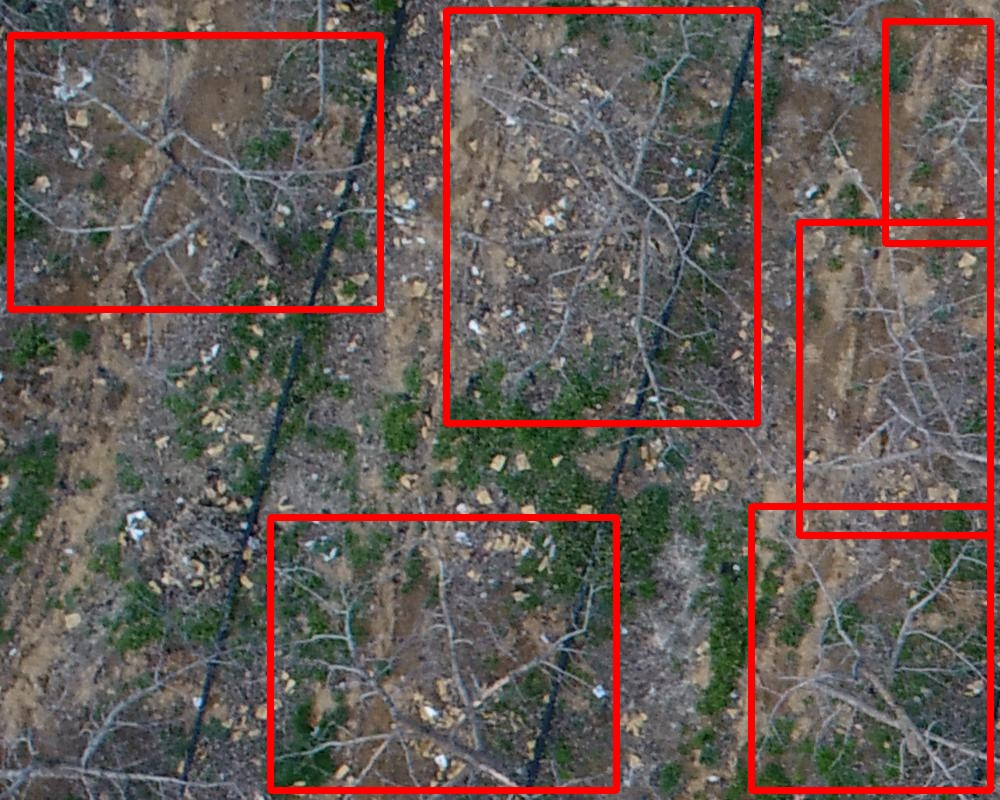apple: (446, 10, 757, 423), (10, 35, 380, 309), (270, 517, 616, 790), (751, 506, 990, 790), (799, 222, 990, 535), (885, 21, 990, 243)
